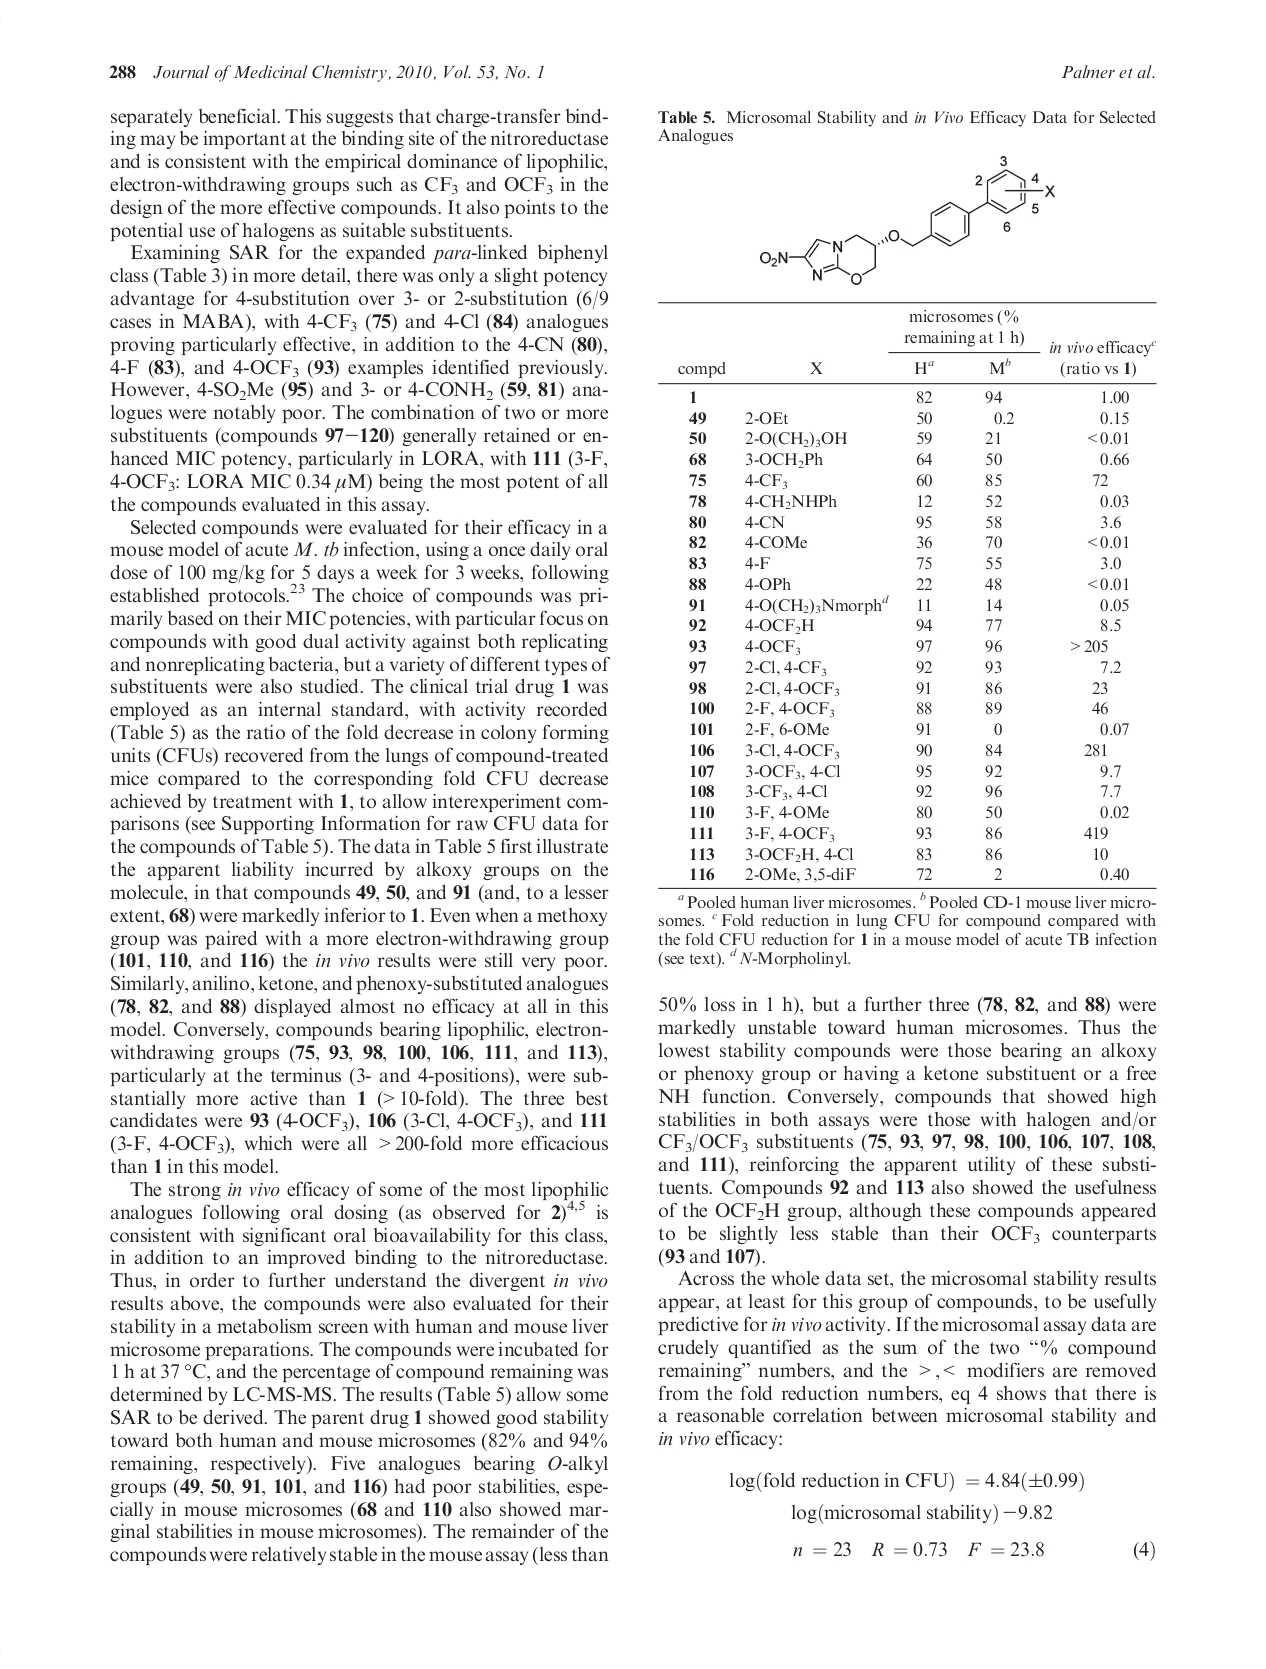exist_molecular: (761, 168, 1055, 287)
